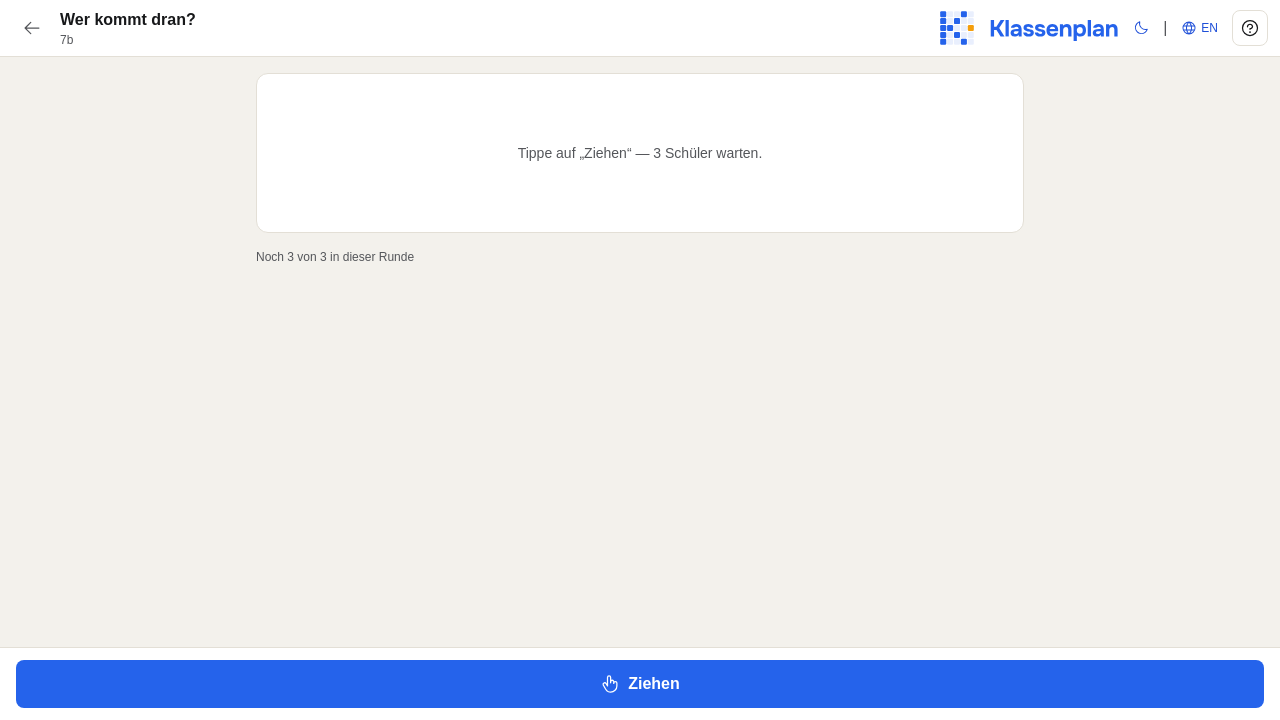
Test: Wer kommt dran? › names the seat when there is a plan
Click the button "Ziehen" at x=640, y=684, box [16,660,1264,708]
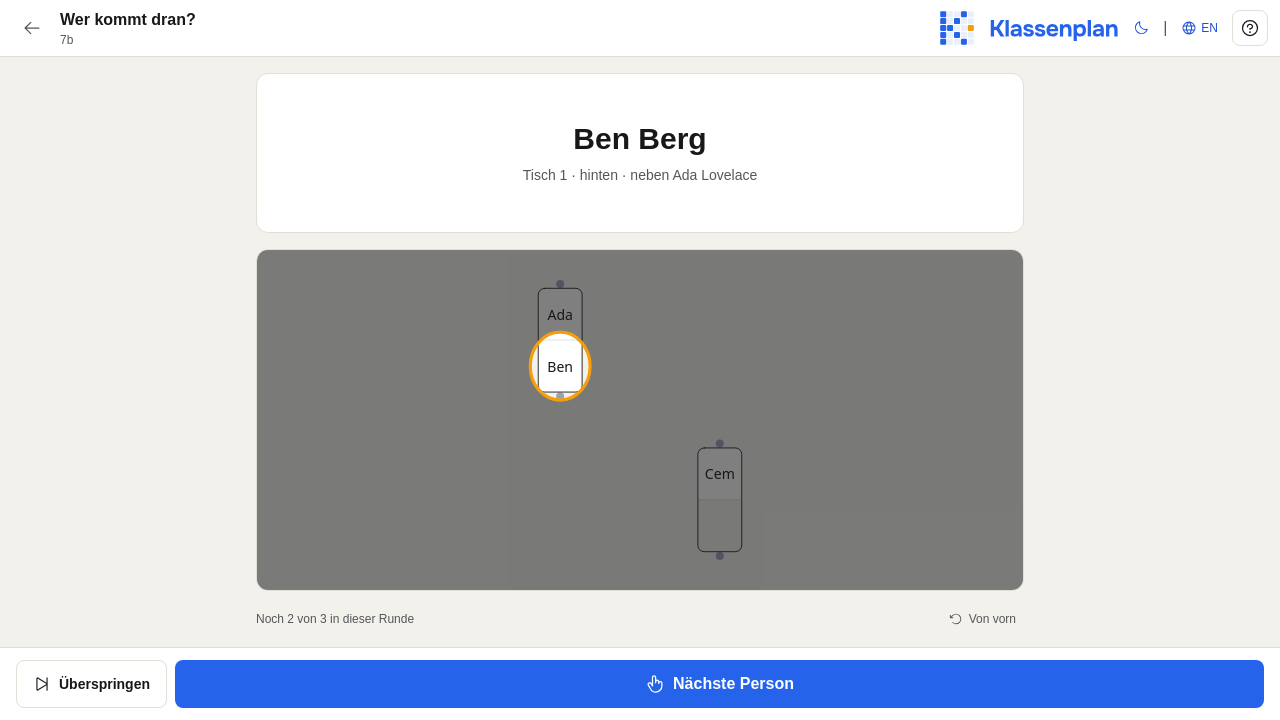
Result: the message reads "Ben Berg Tisch 1 · hinten · neben Ada Lovelace" at [523,167,757,183]
